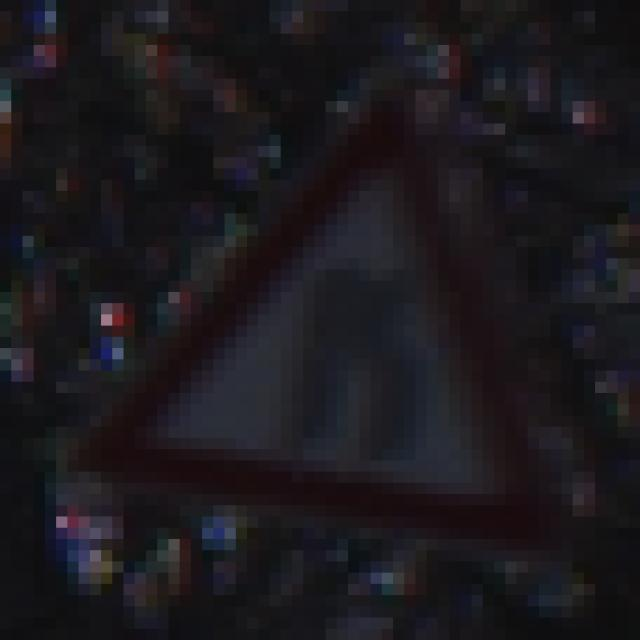narrow road ahead: (52, 74, 612, 582)
